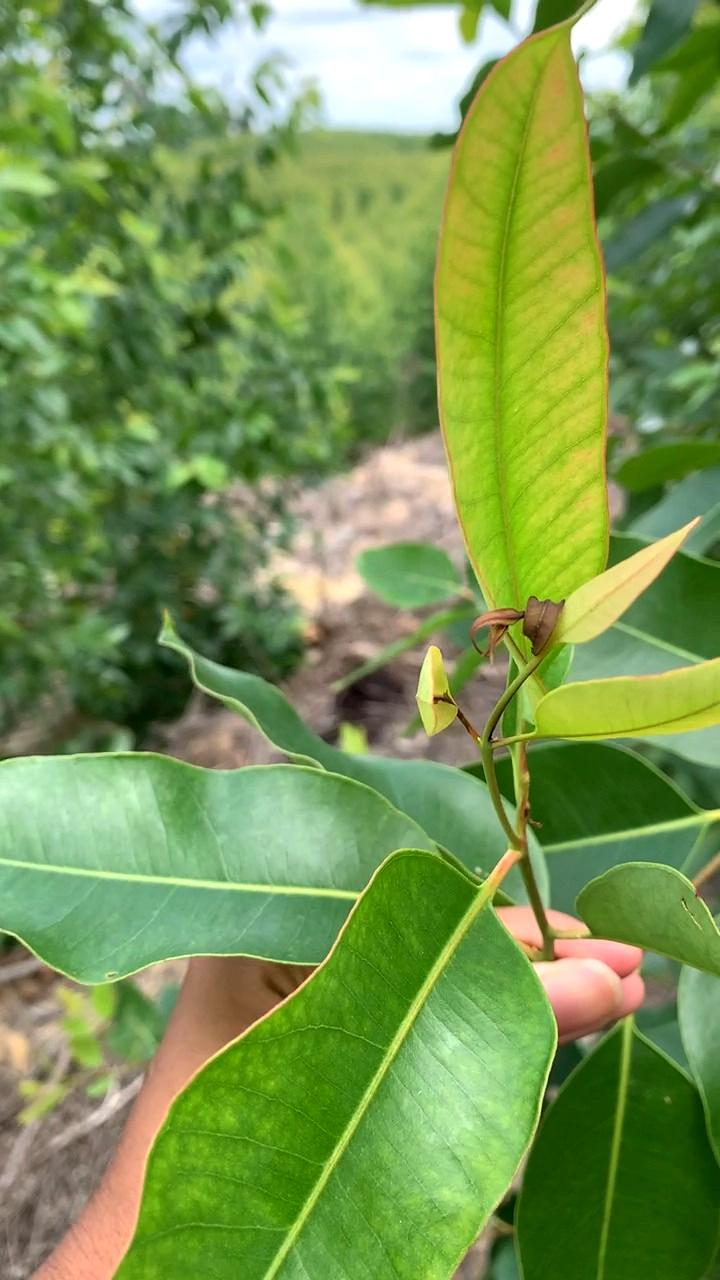Helopeltis-Withered Sprout: (465, 583, 576, 687)
